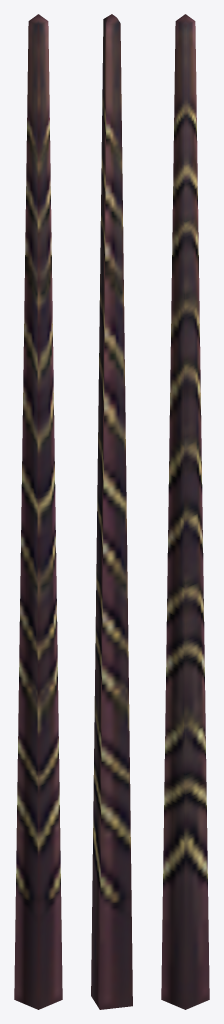
File: Wand08.FBX
3 renders of one model, left to right at view 1: azimuth 90°, elevation 25°; view 2: azimuth 150°, elevation 25°; view 3: azimuth 270°, elevation 25°, orthographic.
Visible parts, largest first — view 1: Wand08; view 2: Wand08; view 3: Wand08.
Part boxes in pixels (left/top/right/bottom): Wand08: left=14, top=14, right=62, bottom=1009; Wand08: left=91, top=14, right=132, bottom=1009; Wand08: left=161, top=14, right=209, bottom=1009.
Bounding box in the file's own units: 3.36 × 75.56 × 3.36.
